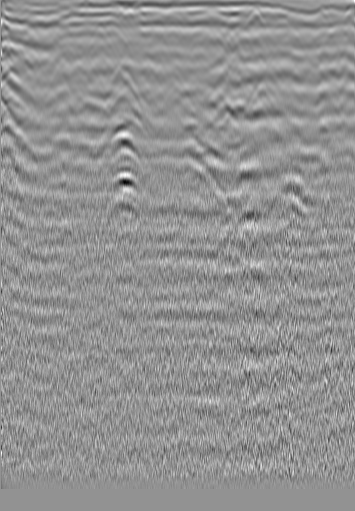가스: (107, 166, 141, 197)
상수: (40, 22, 60, 42)
오수: (296, 33, 316, 53)
우수: (157, 29, 177, 49)
